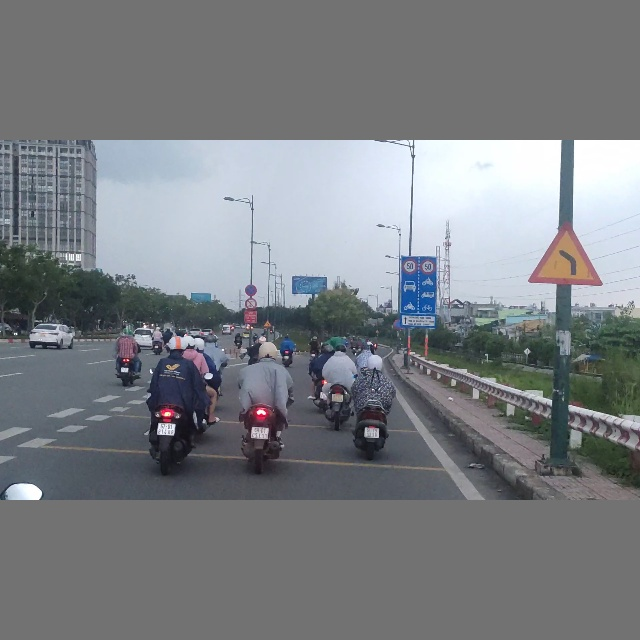P.111: (245, 297, 257, 310)
P.127*50: (419, 258, 437, 275), (402, 259, 418, 275)
P.130: (244, 284, 257, 297)
W.201a: (529, 218, 604, 287), (263, 319, 272, 327)
